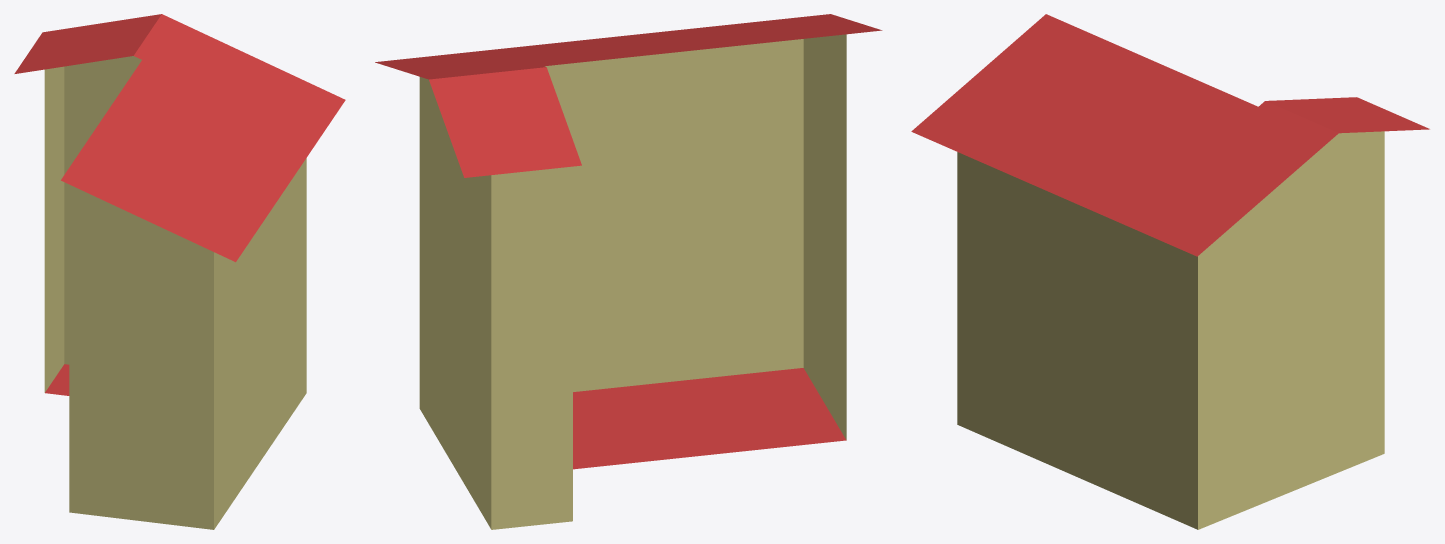
3 views of the same model, side by side, from view 1: azimuth 30°, elevation 25°; view 2: azimuth 150°, elevation 25°; view 3: azimuth 270°, elevation 25° (orthographic). The views are drawn at different scales.
Visible parts, largest first — view 1: group_5, group_3, group_4, group_6; view 2: group_5, group_3, group_6, group_4; view 3: group_5, group_3, group_4.
Boxes of the visible parts, bbox=[...] form: group_5: bbox=[44, 56, 306, 529]; group_3: bbox=[14, 14, 345, 262]; group_4: bbox=[15, 14, 333, 99]; group_6: bbox=[45, 364, 69, 395]; group_5: bbox=[419, 34, 846, 529]; group_3: bbox=[375, 14, 882, 177]; group_6: bbox=[573, 368, 846, 469]; group_4: bbox=[378, 62, 581, 177]; group_5: bbox=[957, 131, 1384, 529]; group_3: bbox=[911, 14, 1429, 256]; group_4: bbox=[1197, 98, 1427, 247].
Size of the model in its own units: 9.77 by 11.91 by 9.06.
